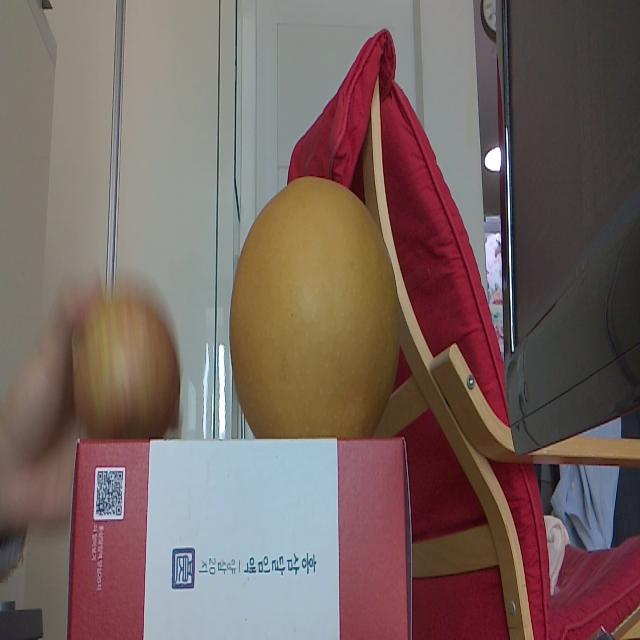apple: (73, 277, 181, 440)
pear: (230, 177, 400, 440)
